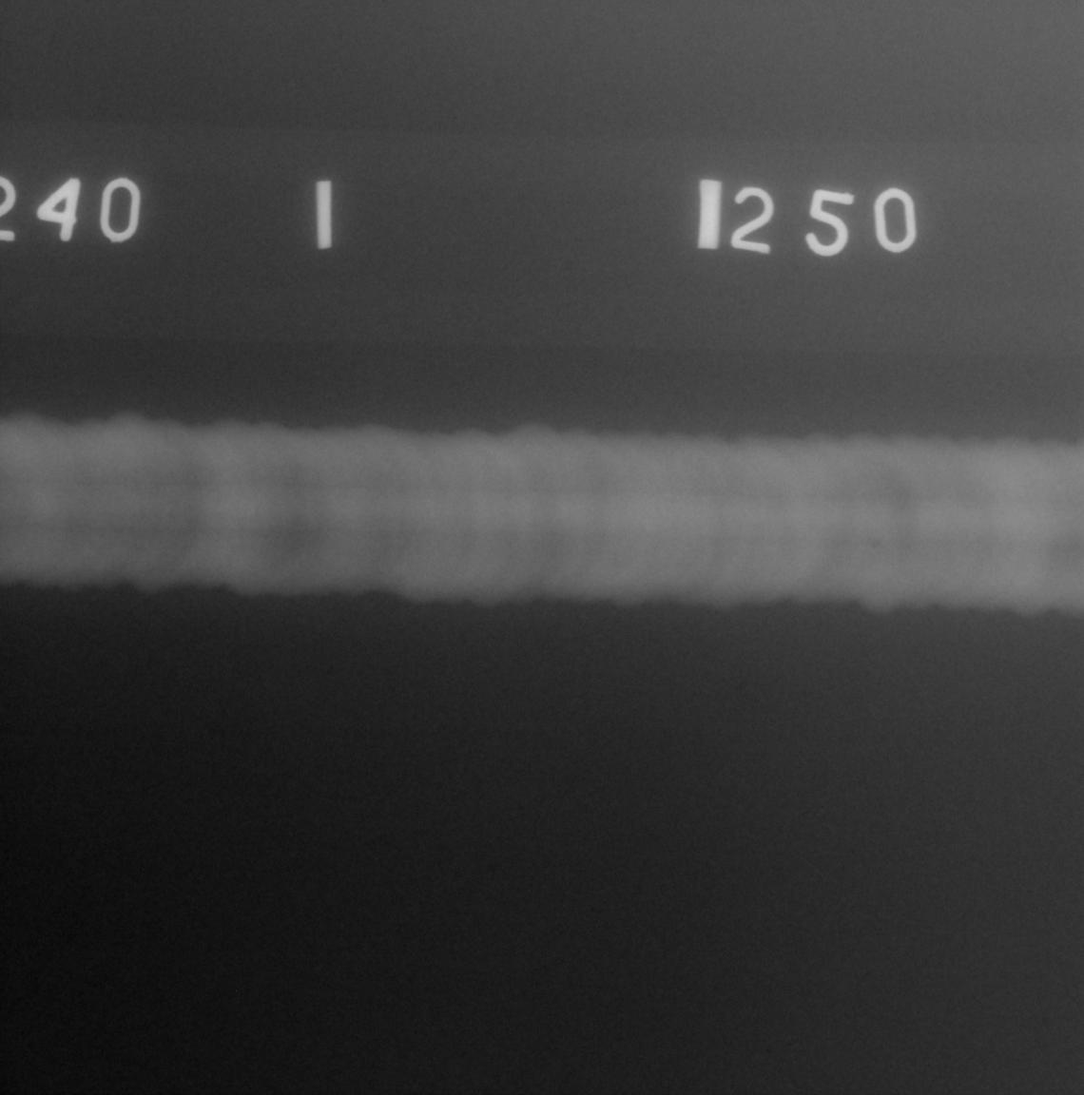Inclusion: (866, 539, 878, 548)
Pore/Porosity: (168, 514, 173, 518), (265, 535, 269, 539)
